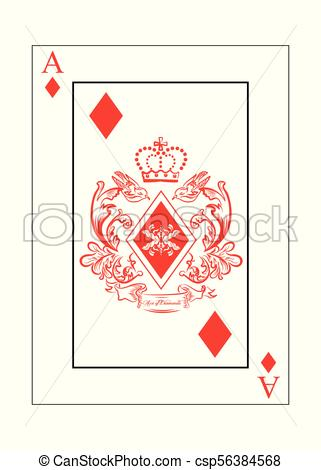ace of diamonds: (33, 44, 292, 409)
